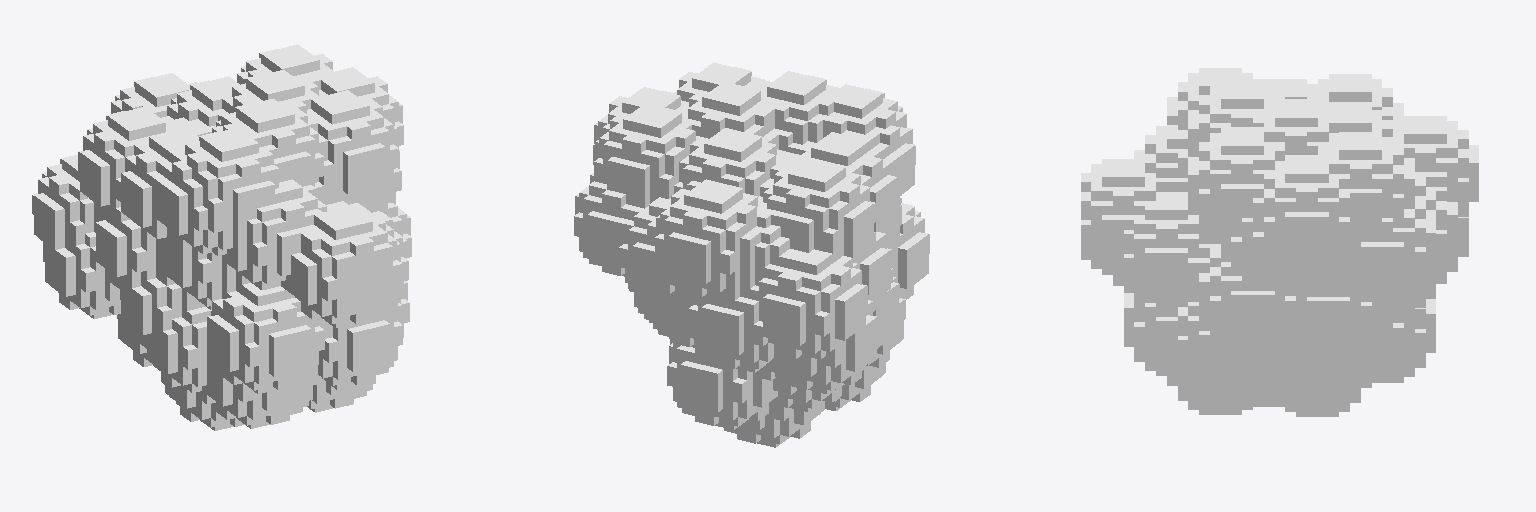
The model's file is LargeRock.obj.
3 renders of one model, left to right at view 1: azimuth 30°, elevation 25°; view 2: azimuth 150°, elevation 25°; view 3: azimuth 270°, elevation 25°, orthographic.
Parts seen in each view (by area): view 1: LargeRock; view 2: LargeRock; view 3: LargeRock.
Boxes of the visible parts, x1=… form: LargeRock: x1=32, y1=44, x2=411, y2=430; LargeRock: x1=574, y1=62, x2=929, y2=447; LargeRock: x1=1081, y1=68, x2=1478, y2=416.
Bounding box in the file's own units: 32 × 33 × 37.